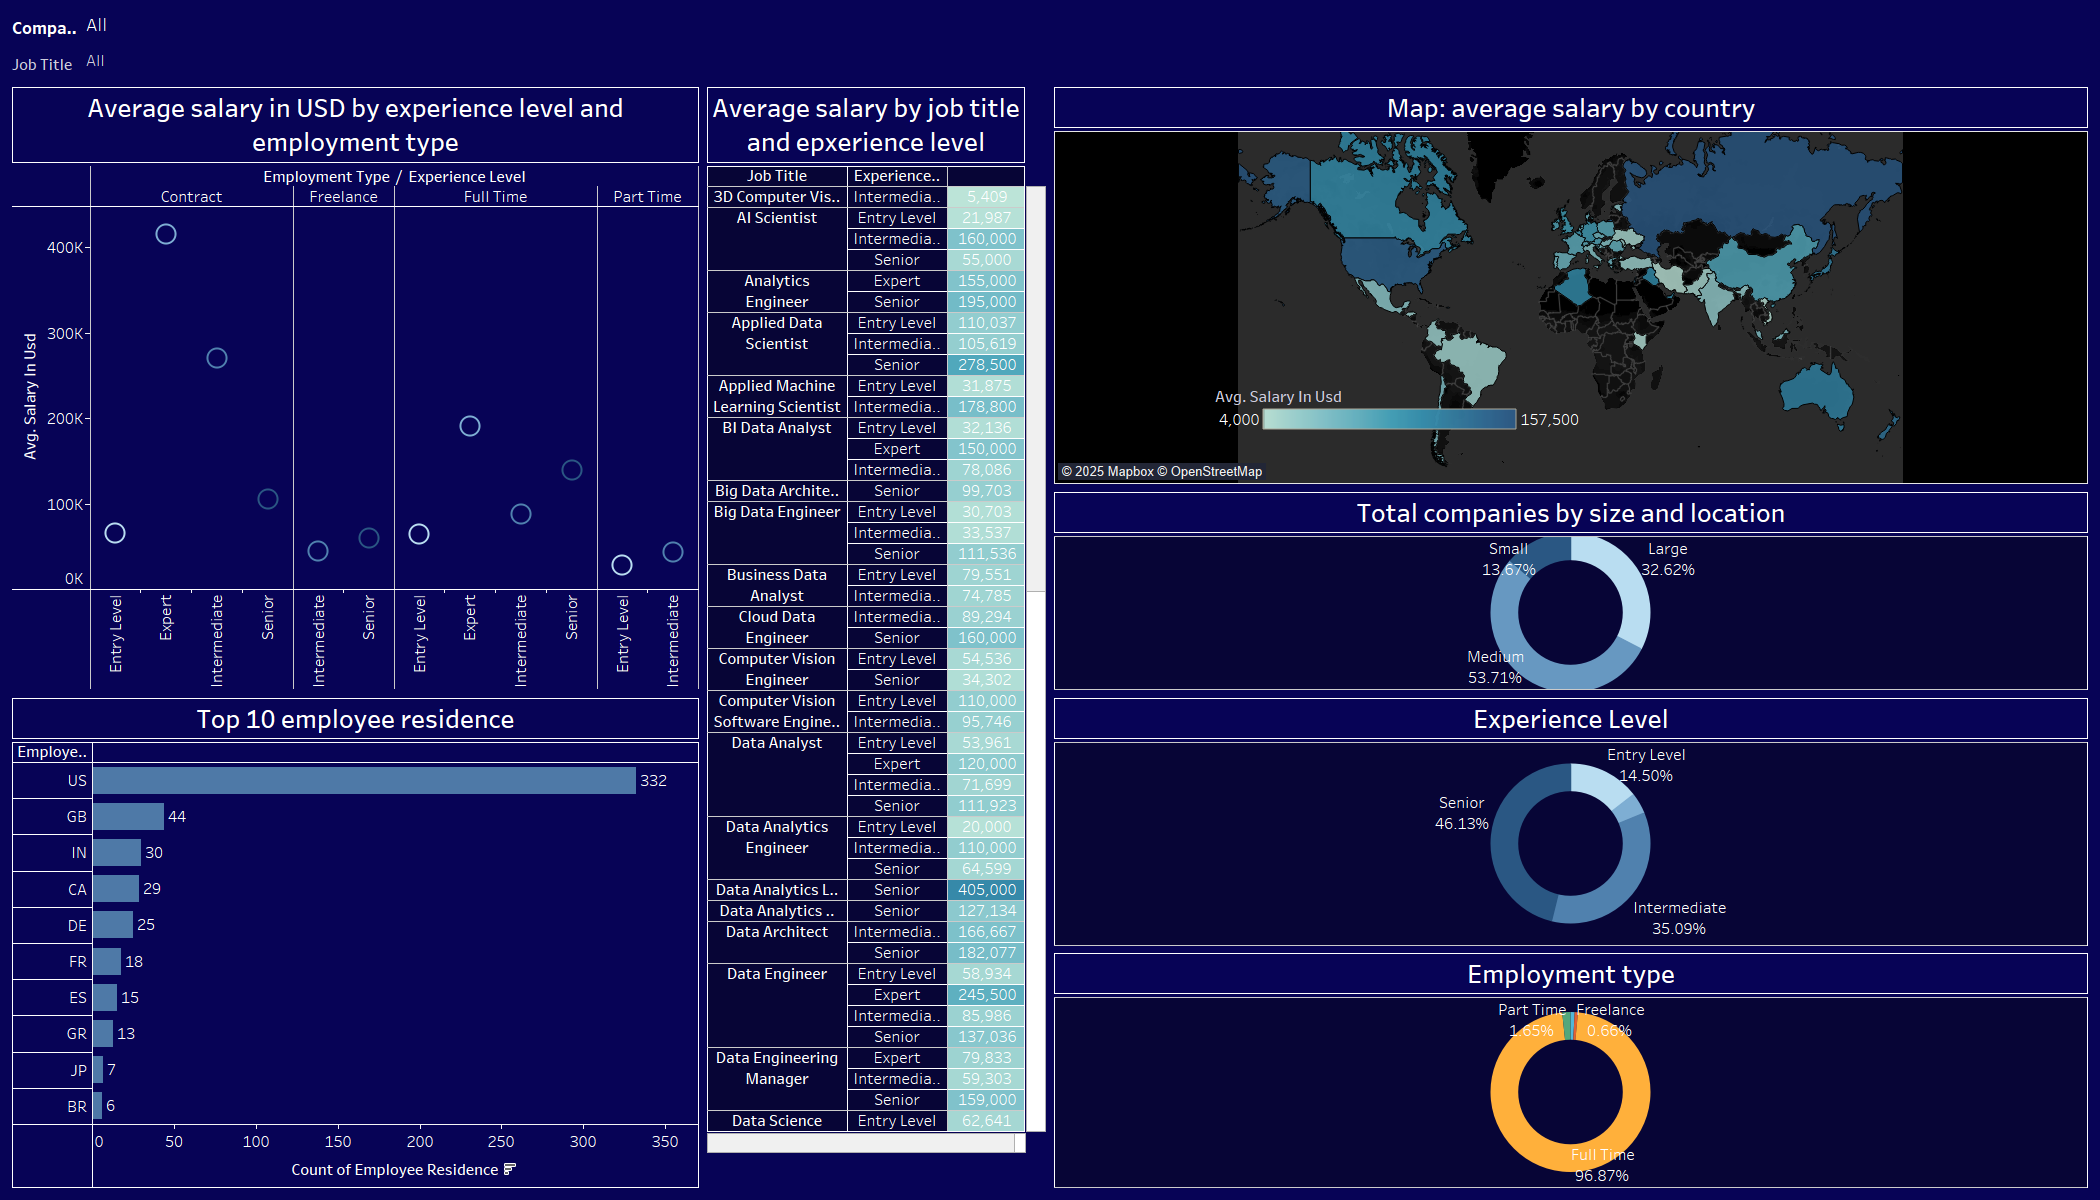

The dashboard page shown, as its layout file describes it:
{"tool":"tableau","page":{"name":"Dashboard 1","canvas":[2100,1200],"ordinal":0},"visuals":[{"type":"filter","title":"Average salary by job title and epxerience level","param":"[federated.021msr30kfgvb11b6y1x109qquxz].[none:company_location:nk]","box":[8,8,2084,37.5]},{"type":"filter","title":"Map: average salary by country","param":"[federated.021msr30kfgvb11b6y1x109qquxz].[none:job_title:nk]","box":[8,45.5,2084,37.5]},{"type":"worksheet","title":"Average salary in USD by experience level and employment type","mark":"Shape","rows":["salary_in_usd"],"cols":["employment_type","experience_level"],"box":[8,83,694.6,610.7]},{"type":"worksheet","title":"Average salary by job title and epxerience level","mark":"Square","rows":["job_title","experience_level"],"box":[702.6,83,347.4,1109]},{"type":"worksheet","title":"Map: average salary by country","mark":"Automatic","box":[1050,83,1042,404.6]},{"type":"legend","title":"Map: average salary by country","param":"[federated.021msr30kfgvb11b6y1x109qquxz].[avg:salary_in_usd:qk]","box":[1215,382,369,83]},{"type":"worksheet","title":"Total companies by size and location","mark":"Pie","rows":["Calculation_1295347898047885313","Calculation_1295347898047885313"],"box":[1050,487.6,1042,206.1]},{"type":"worksheet","title":"Top 10 employee residence","mark":"Automatic","rows":["employee_residence"],"cols":["employee_residence"],"box":[8,693.7,694.6,498.3]},{"type":"worksheet","title":"Experience Level","mark":"Pie","rows":["Calculation_1295347898047885313","Calculation_1295347898047885313"],"box":[1050,693.7,1042,255.7]},{"type":"worksheet","title":"Employment Type","mark":"Pie","rows":["Calculation_1295347898047885313","Calculation_1295347898047885313"],"box":[1050,949.4,1042,242.6]}]}

Visuals, with their boxes in screenshot pixels (x1, y1, x2, y2), scaled from the page's 2100x1200 canvas onto the 2100x1200 screenshot:
"Average salary by job title and epxerience level" filter: [x1=8, y1=8, x2=2092, y2=46]
"Map: average salary by country" filter: [x1=8, y1=46, x2=2092, y2=83]
"Average salary in USD by experience level and employment type" worksheet (Shape marks): [x1=8, y1=83, x2=703, y2=694]
"Average salary by job title and epxerience level" worksheet (Square marks): [x1=703, y1=83, x2=1050, y2=1192]
"Map: average salary by country" worksheet: [x1=1050, y1=83, x2=2092, y2=488]
"Map: average salary by country" legend: [x1=1215, y1=382, x2=1584, y2=465]
"Total companies by size and location" worksheet (Pie marks): [x1=1050, y1=488, x2=2092, y2=694]
"Top 10 employee residence" worksheet: [x1=8, y1=694, x2=703, y2=1192]
"Experience Level" worksheet (Pie marks): [x1=1050, y1=694, x2=2092, y2=949]
"Employment Type" worksheet (Pie marks): [x1=1050, y1=949, x2=2092, y2=1192]
